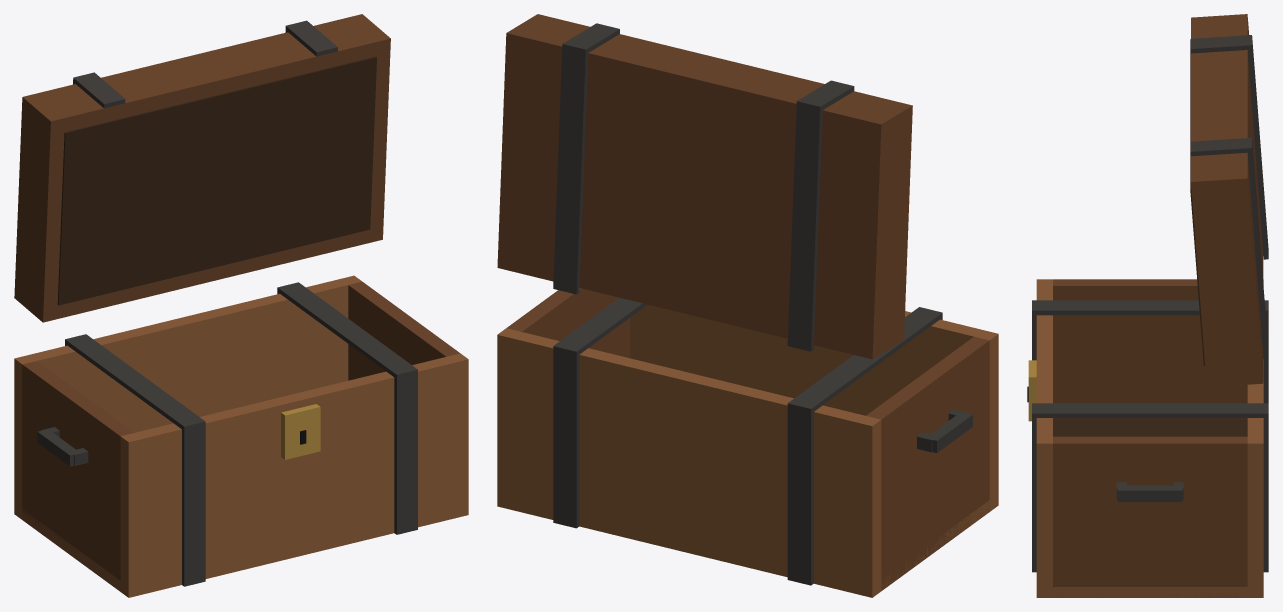
The model's file is prop-cave-chest-open.glb.
3 renders of one model, left to right at view 1: azimuth 30°, elevation 25°; view 2: azimuth 150°, elevation 25°; view 3: azimuth 270°, elevation 25°, orthographic. The views are drawn at different scales.
Visible parts, largest first — view 1: CaveChestOpen; view 2: CaveChestOpen; view 3: CaveChestOpen.
Boxes of the visible parts, box(x1,y1,x2,y2) form: CaveChestOpen: box(14, 14, 468, 597); CaveChestOpen: box(497, 14, 998, 597); CaveChestOpen: box(1027, 14, 1268, 597).
Bounding box in the file's own units: 1.06 × 1.15 × 0.595.
